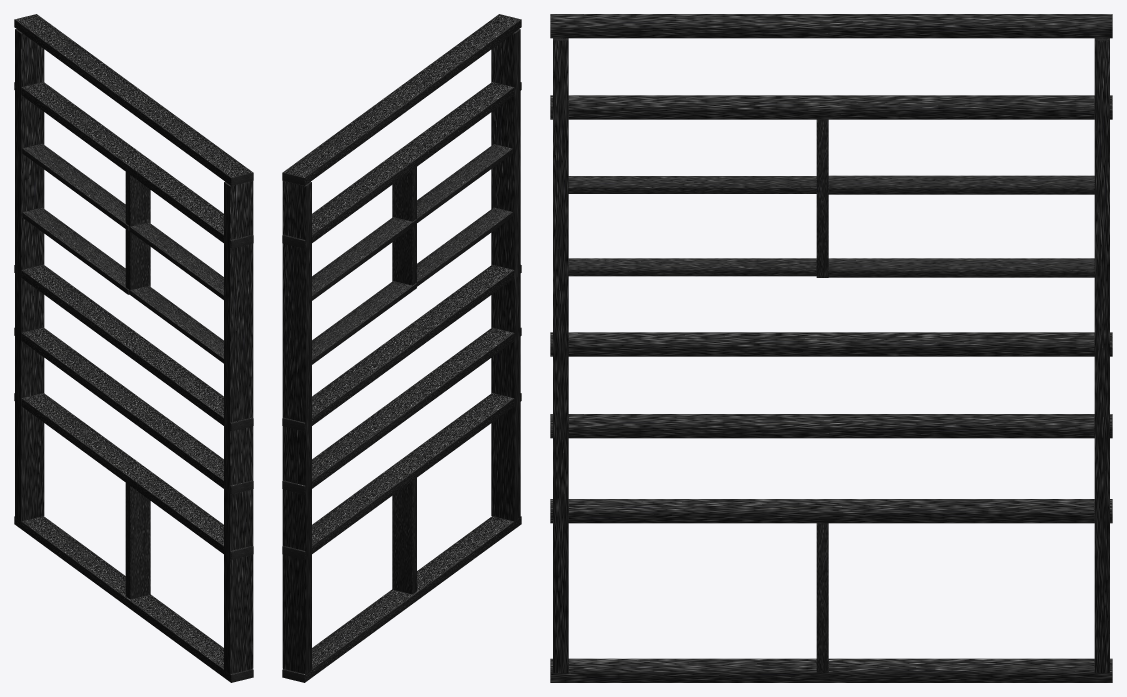
Rendered from Mueble.obj.
The picture shows the model from 3 angles, left to right: view 1: azimuth 30°, elevation 25°; view 2: azimuth 150°, elevation 25°; view 3: azimuth 270°, elevation 25°; orthographic projection. The views are drawn at different scales.
Visible parts, largest first — view 1: Cubo.003; view 2: Cubo.003; view 3: Cubo.003.
Boxes of the visible parts, bbox=[...] form: Cubo.003: bbox=[14, 14, 253, 682]; Cubo.003: bbox=[282, 14, 521, 682]; Cubo.003: bbox=[550, 14, 1112, 682].
Size of the model in its own units: 0.1865 by 3.85 by 2.99.
